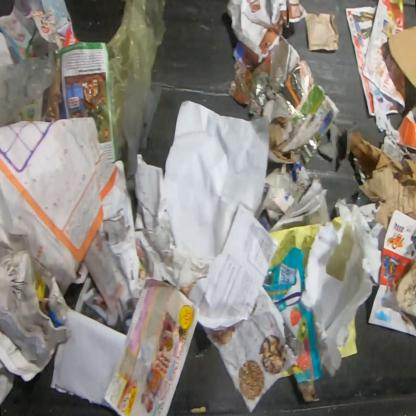cardboard: (0, 241, 73, 384), (262, 246, 325, 404), (249, 63, 324, 165), (350, 131, 415, 231), (260, 162, 312, 227), (387, 25, 415, 91), (304, 12, 339, 52), (395, 258, 416, 319)
soft_plastic: (106, 0, 167, 162), (0, 36, 59, 128), (120, 74, 163, 182)
